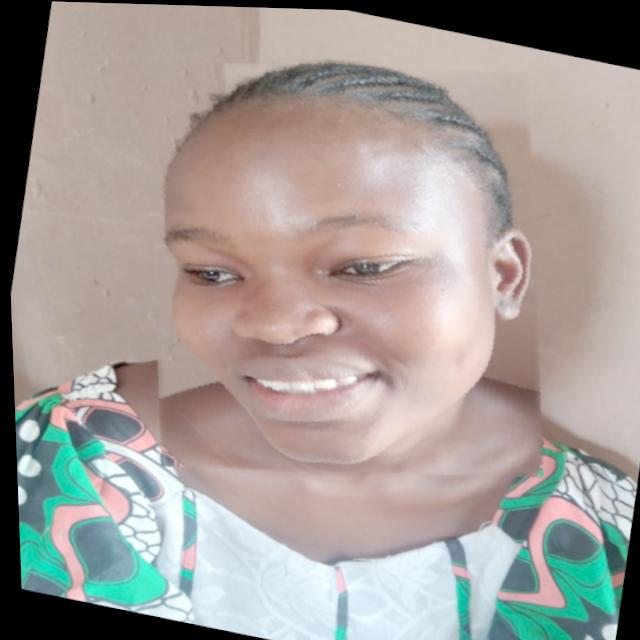happy: (94, 11, 591, 523)
